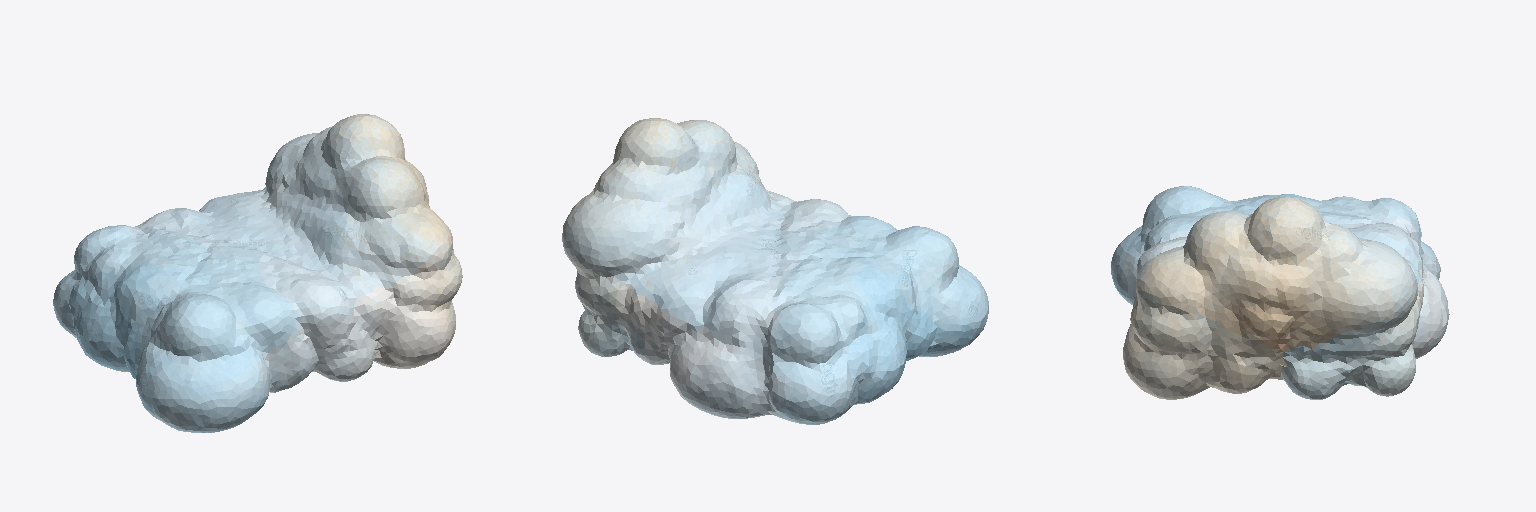
The picture shows the model from 3 angles: view 1: azimuth 30°, elevation 25°; view 2: azimuth 150°, elevation 25°; view 3: azimuth 270°, elevation 25°; orthographic projection.
Parts seen in each view (by area): view 1: Mesh1; view 2: Mesh1; view 3: Mesh1.
Part boxes in pixels (bbox=[...]): Mesh1: bbox=[53, 114, 462, 432]; Mesh1: bbox=[562, 118, 988, 424]; Mesh1: bbox=[1111, 186, 1449, 399].
Size of the model in its own units: 1.2 by 0.7791 by 1.09.
Materials: 1 (1 with a texture image).